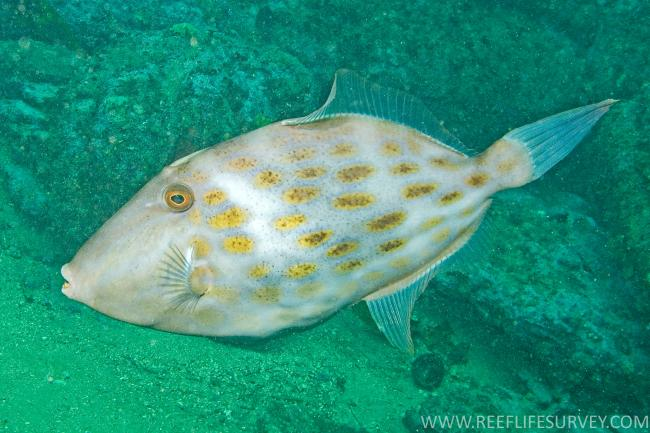fish: (59, 67, 619, 354)
